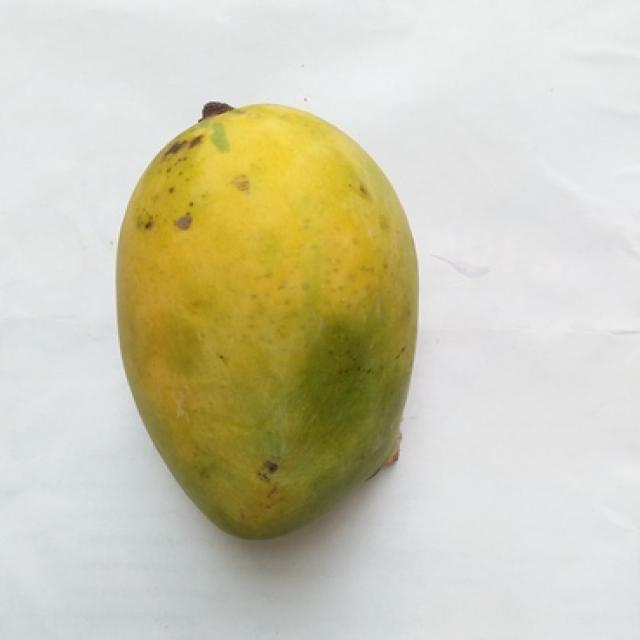Mango: (118, 105, 416, 537)
